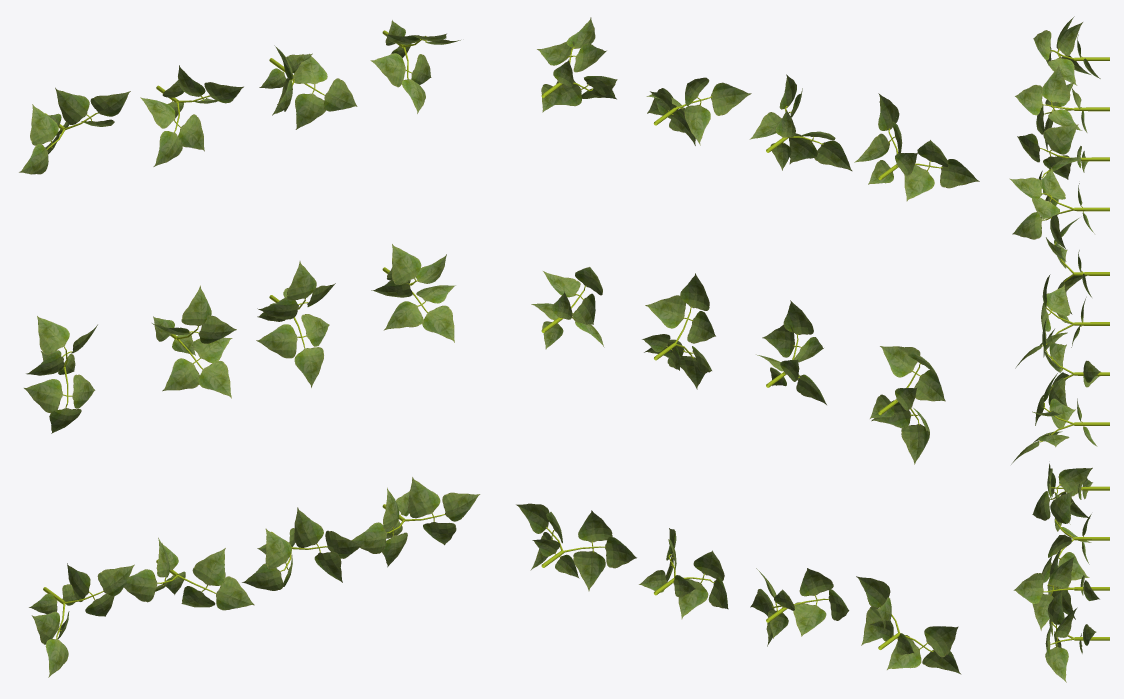
Rendered from plant_genotype1.obj.
The picture shows the model from 3 angles, left to right: view 1: azimuth 30°, elevation 25°; view 2: azimuth 150°, elevation 25°; view 3: azimuth 270°, elevation 25°; orthographic projection. The views are drawn at different scales.
Bounding box in the file's own units: 1.04 × 1.25 × 0.2128.
Materials: 2 (1 with a texture image).
